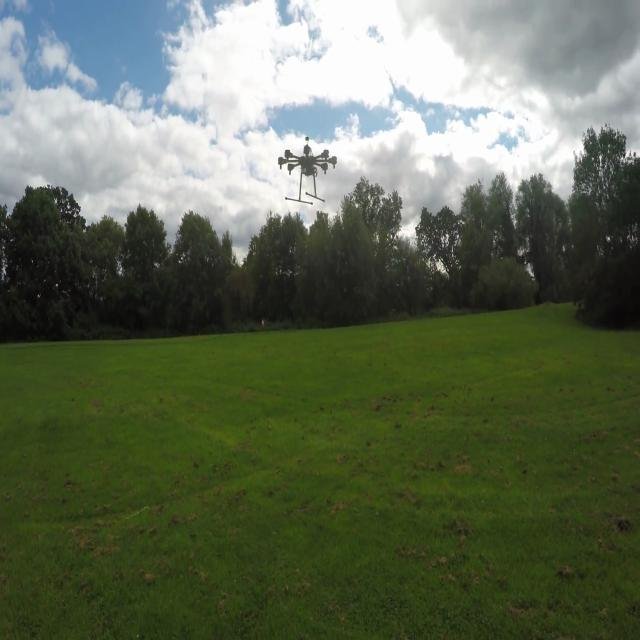drone: (278, 108, 342, 218)
